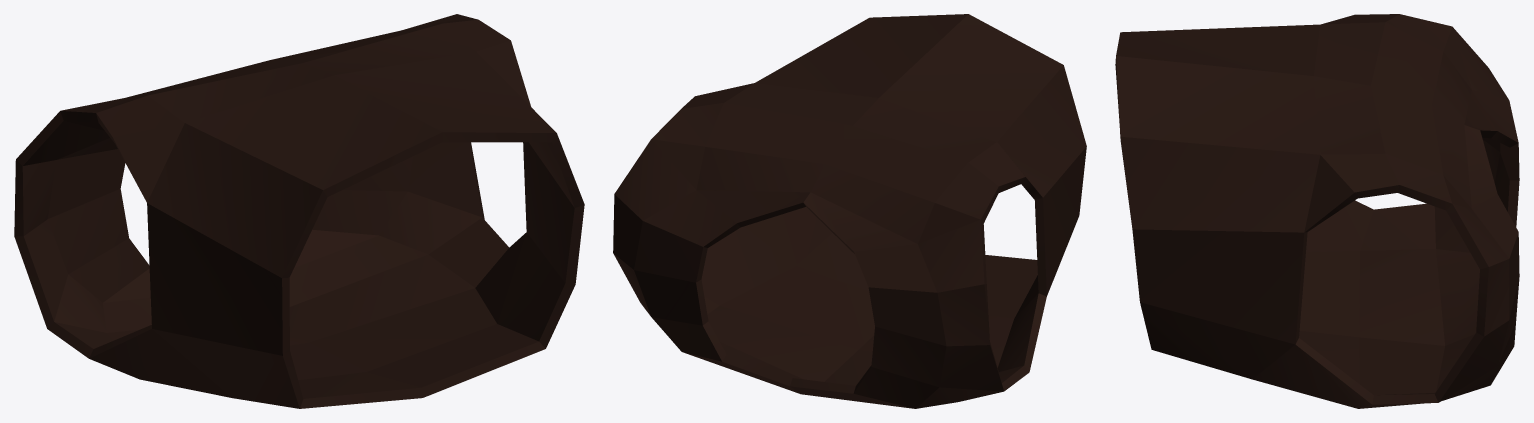
File: Armor_Leather_armor.obj
3 renders of one model, left to right at view 1: azimuth 30°, elevation 25°; view 2: azimuth 150°, elevation 25°; view 3: azimuth 270°, elevation 25°, orthographic. The views are drawn at different scales.
Parts seen in each view (by area): view 1: Armor_Leather_armor.007_Armor_Leather_armor; view 2: Armor_Leather_armor.007_Armor_Leather_armor; view 3: Armor_Leather_armor.007_Armor_Leather_armor.
Part boxes in pixels (x1,y1,x2,y2): Armor_Leather_armor.007_Armor_Leather_armor: [14, 14, 584, 408]; Armor_Leather_armor.007_Armor_Leather_armor: [613, 14, 1086, 408]; Armor_Leather_armor.007_Armor_Leather_armor: [1115, 14, 1519, 408].
Bounding box in the file's own units: 70.23 × 48.27 × 59.16.
